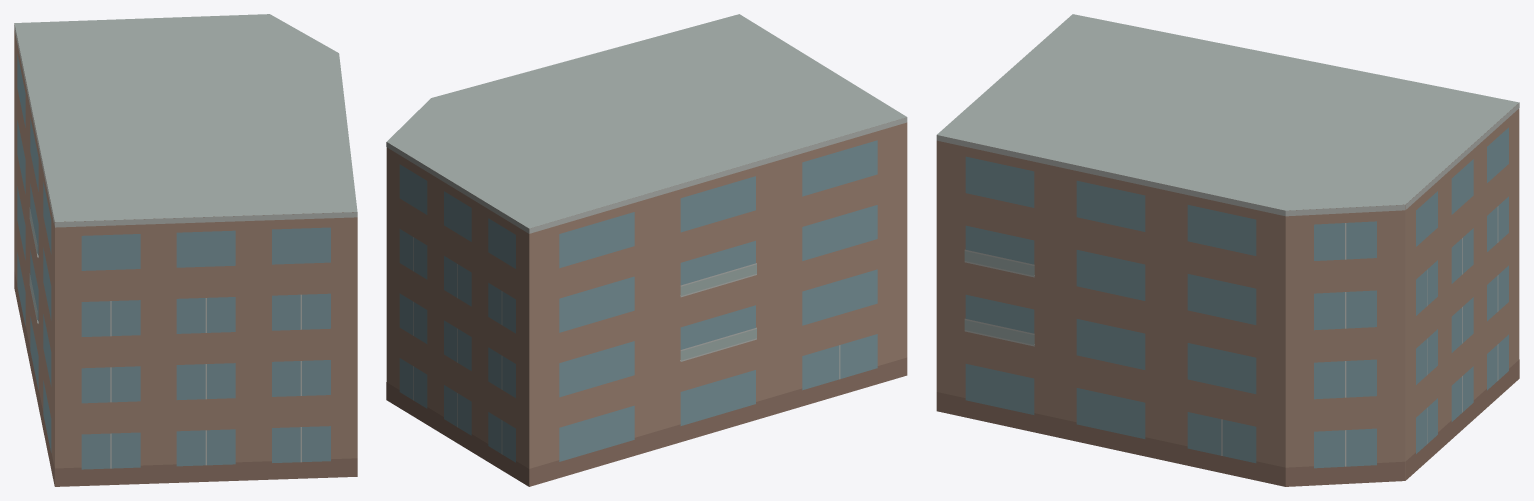
File: survey-upis-32478140.glb
The picture shows the model from 3 angles, left to right: view 1: azimuth 30°, elevation 25°; view 2: azimuth 150°, elevation 25°; view 3: azimuth 270°, elevation 25°; orthographic projection. The views are drawn at different scales.
Visible parts, largest first — view 1: survey-upis-32478140.tmp; view 2: survey-upis-32478140.tmp; view 3: survey-upis-32478140.tmp.
Part boxes in pixels (x1,y1,x2,y2): survey-upis-32478140.tmp: [14, 14, 357, 486]; survey-upis-32478140.tmp: [386, 14, 907, 486]; survey-upis-32478140.tmp: [936, 14, 1519, 486].
Size of the model in its own units: 18.18 by 11.9 by 22.76.
